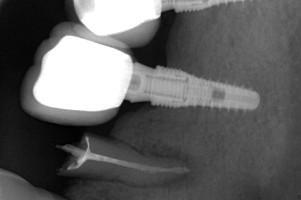Furcation Involvement: (138, 143, 203, 191)
